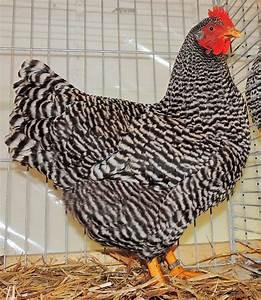hen: (3, 4, 252, 288)
